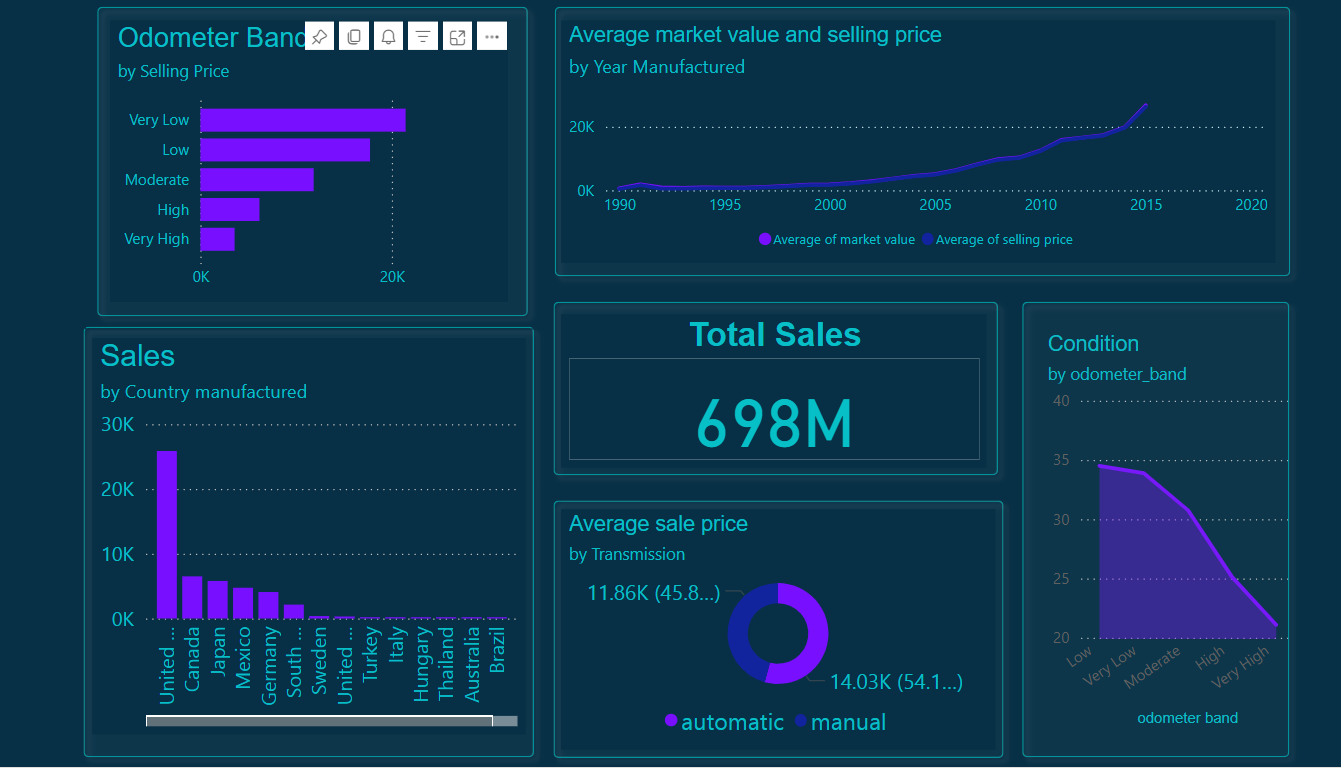

The dashboard page shown, as its layout file describes it:
{"tool":"powerbi","page":{"name":"Page 1","canvas":[1280,720],"ordinal":0},"visuals":[{"type":"shape","box":[9,348,380,365],"z":0},{"type":"shape","box":[20,92,365,268],"z":1000},{"type":"shape","box":[386,92,608,236],"z":2000},{"type":"lineChart","title":"Average  market value and selling price","fields":{"Y":["Avg(public car_sales.market_value)","Avg(public car_sales.selling_price)"],"Category":["public car_sales.year"]},"box":[401,113,571,194],"z":3000},{"type":"barChart","title":"Odometer Band","fields":{"Category":["public car_sales.odometer_band"],"Y":["Avg(public car_sales.selling_price)"]},"box":[40,113,318,225],"z":4000},{"type":"columnChart","title":"Sales","fields":{"Category":["public car_sales.country_manufactured"],"Y":["CountNonNull(public car_sales.country_manufactured)"]},"box":[26,367,346,317],"z":5000},{"type":"shape","box":[385,487,380,226],"z":6000},{"type":"donutChart","title":"Average sale price","fields":{"Y":["Avg(public car_sales.selling_price)"],"Category":["public car_sales.transmission"]},"box":[401,504,347,192],"z":7000},{"type":"shape","box":[385,328,375,159],"z":8000},{"type":"stackedAreaChart","title":"Condition","fields":{"Category":["public car_sales.odometer_band"],"Y":["Avg(public car_sales.condition)"]},"box":[784,360,209,324],"z":9000},{"type":"shape","box":[760,328,234,385],"z":10000},{"type":"textbox","box":[9,14,941,50],"z":11000},{"type":"cardVisual","title":"Total Sales","fields":{"Data":["Sum(public car_sales.selling price)"]},"box":[401,348,340,123],"z":12000},{"type":"shape","box":[20,1,973,91],"z":13000}]}

Visuals, with their boxes in screenshot pixels (x1, y1, x2, y2), scaled from the page's 1280x720 canvas onto the 1341x768 screenshot:
shape: box=[9, 371, 408, 761]
shape: box=[21, 98, 403, 384]
shape: box=[404, 98, 1041, 350]
"Average  market value and selling price" lineChart: box=[420, 121, 1018, 327]
"Odometer Band" barChart: box=[42, 121, 375, 361]
"Sales" columnChart: box=[27, 391, 390, 730]
shape: box=[403, 519, 801, 761]
"Average sale price" donutChart: box=[420, 538, 784, 742]
shape: box=[403, 350, 796, 519]
"Condition" stackedAreaChart: box=[821, 384, 1040, 730]
shape: box=[796, 350, 1041, 761]
textbox: box=[9, 15, 995, 68]
"Total Sales" cardVisual: box=[420, 371, 776, 502]
shape: box=[21, 1, 1040, 98]
